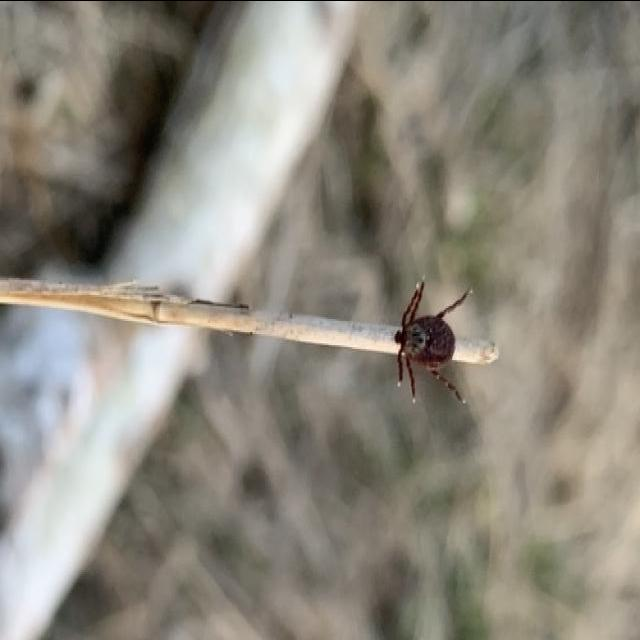Dermacentor Reticulatus-F: (394, 279, 467, 402)
